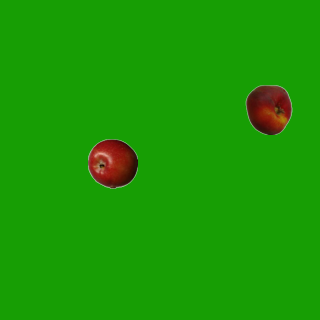Apple Braeburn: (87, 138, 137, 188)
Nectarine Flat: (243, 84, 293, 134)
